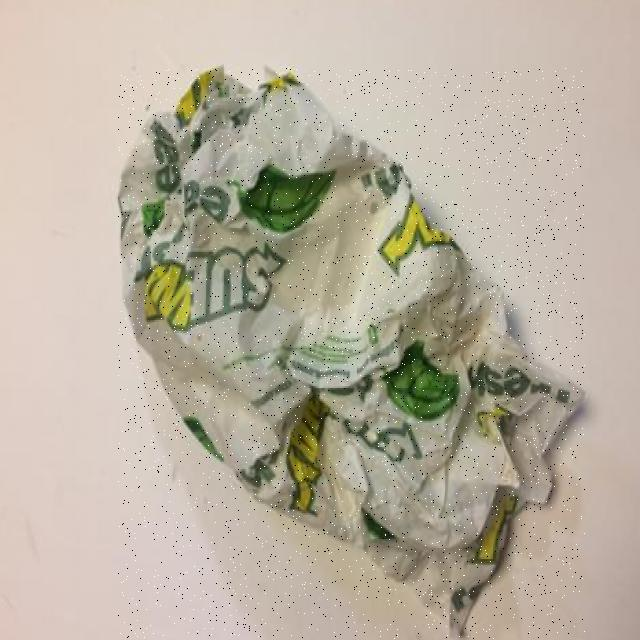paper: (118, 68, 585, 640)
